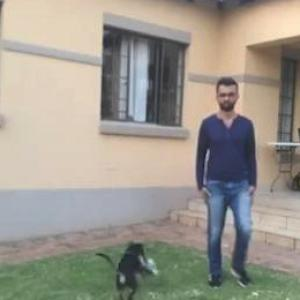follow: (193, 77, 260, 288)
